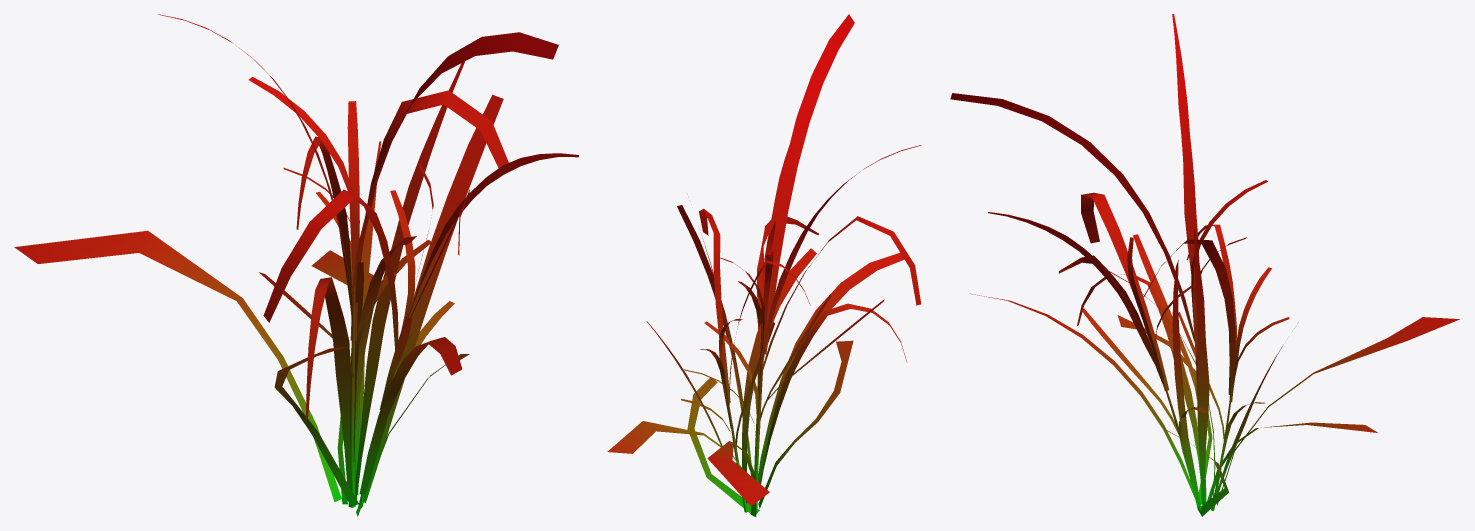
File: Lemongrass_LOD1_Var1_sktne.fbx
3 views of the same model, side by side, from view 1: azimuth 30°, elevation 25°; view 2: azimuth 150°, elevation 25°; view 3: azimuth 270°, elevation 25° (orthographic). The views are drawn at different scales.
Visible parts, largest first — view 1: _240f_Var1_LOD1; view 2: _240f_Var1_LOD1; view 3: _240f_Var1_LOD1.
Part boxes in pixels (box(x1,y1,x2,y2)): _240f_Var1_LOD1: box(14, 14, 578, 516); _240f_Var1_LOD1: box(607, 14, 921, 516); _240f_Var1_LOD1: box(950, 14, 1459, 516).
Size of the model in its own units: 27.13 by 43.75 by 46.42.
